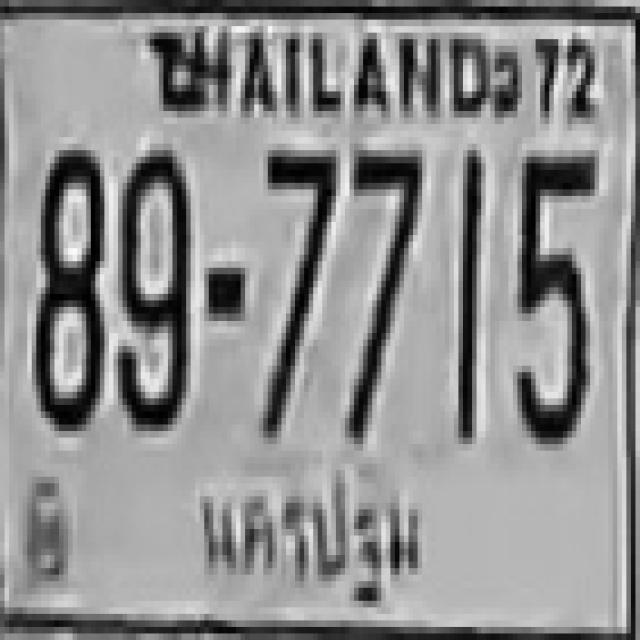1: (452, 147, 478, 434)
5: (510, 150, 588, 438)
7: (261, 140, 334, 434), (345, 144, 418, 431), (350, 144, 418, 418), (350, 144, 418, 326)
8: (32, 143, 100, 424)
9: (114, 143, 186, 424)
NakhonPathom: (186, 465, 428, 611)
